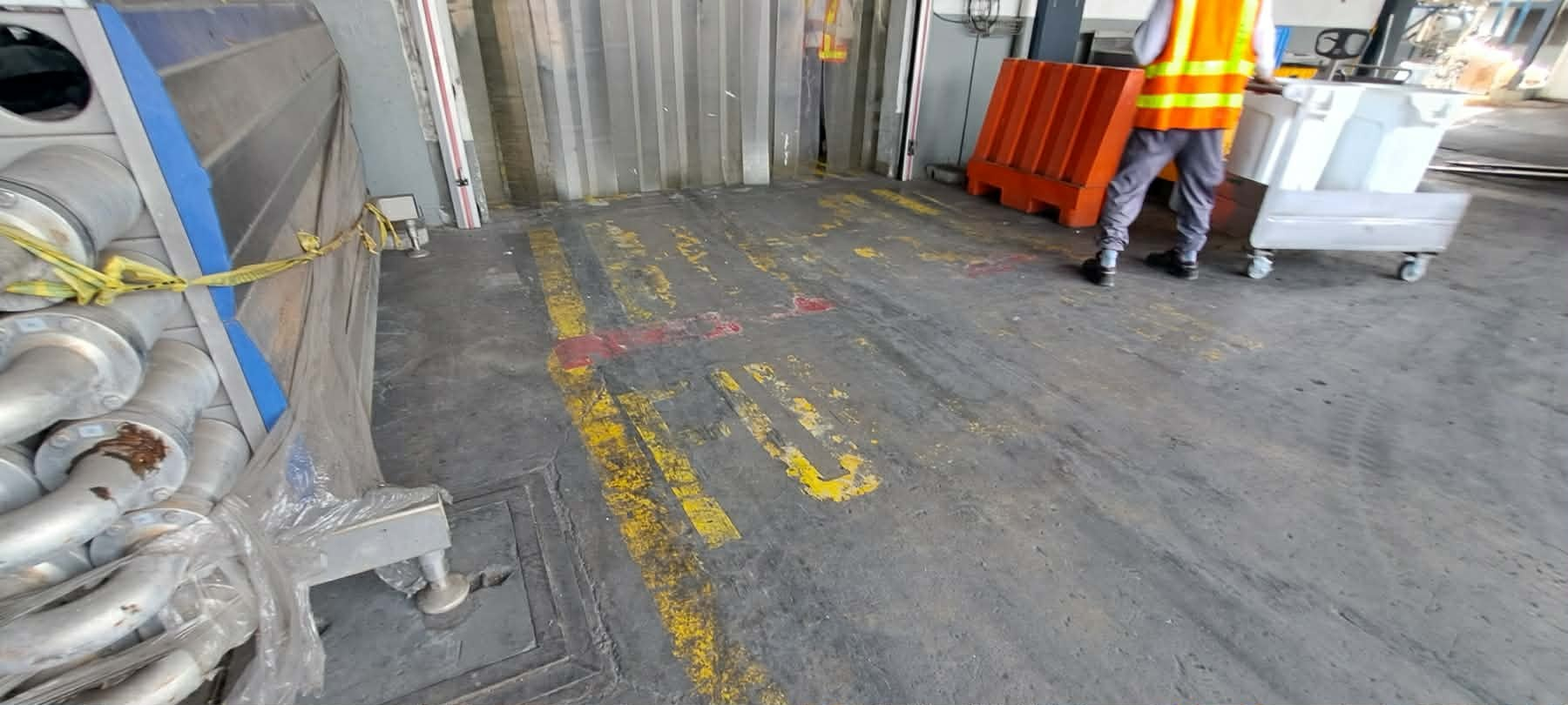safety-vest: (1140, 0, 1262, 137)
